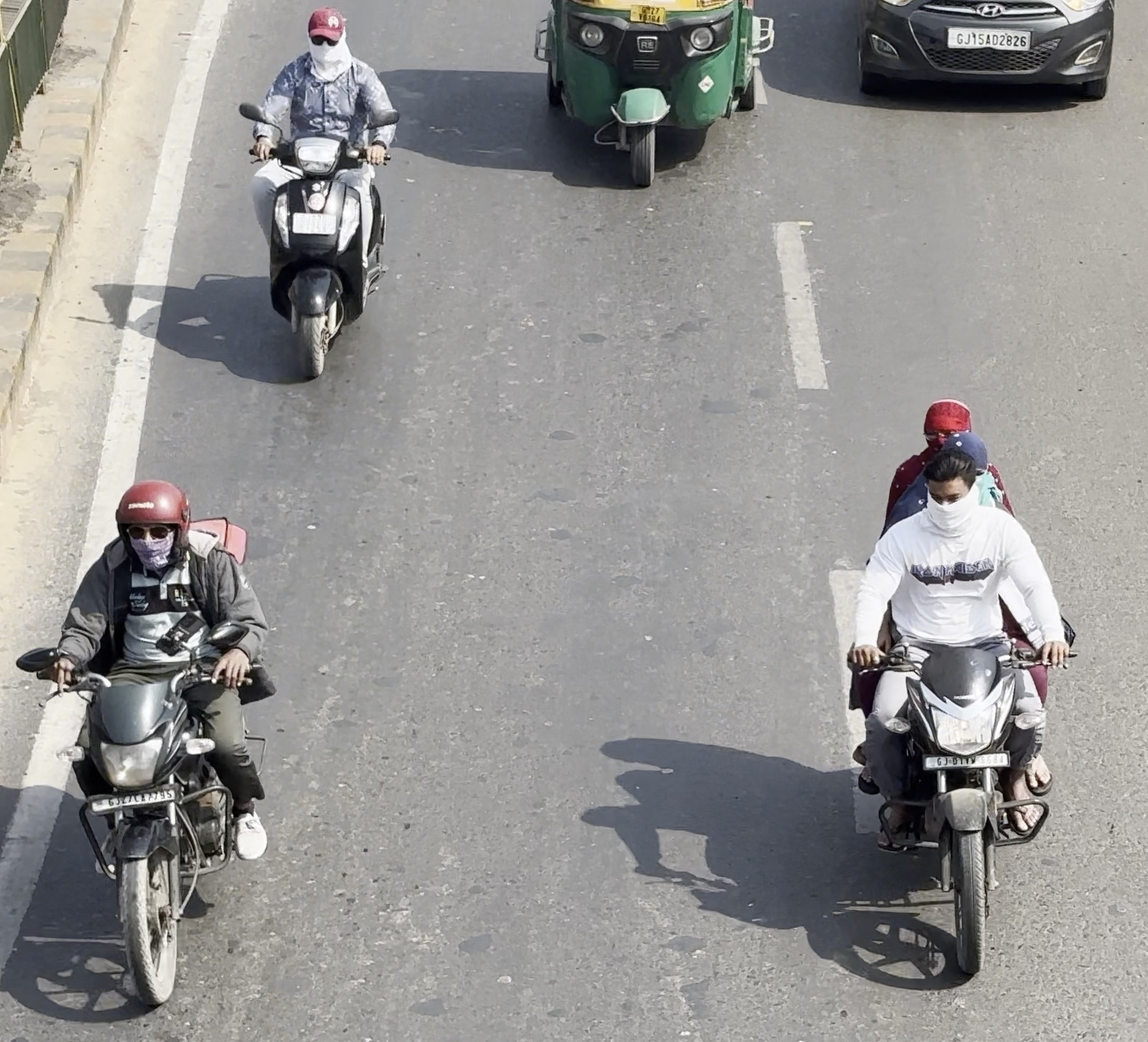BikeWithRider: (808, 380, 1082, 988), (12, 463, 309, 1015), (214, 0, 437, 393)
Helmet: (107, 472, 196, 574)
NoHelmet: (915, 452, 984, 540), (288, 0, 361, 83), (906, 400, 978, 467), (934, 433, 1001, 496)
